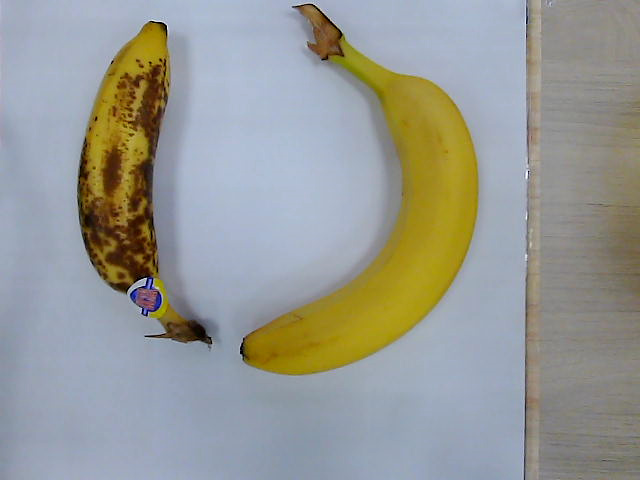fresh_banana: (241, 3, 479, 375)
rotten_banana: (77, 23, 214, 346)
